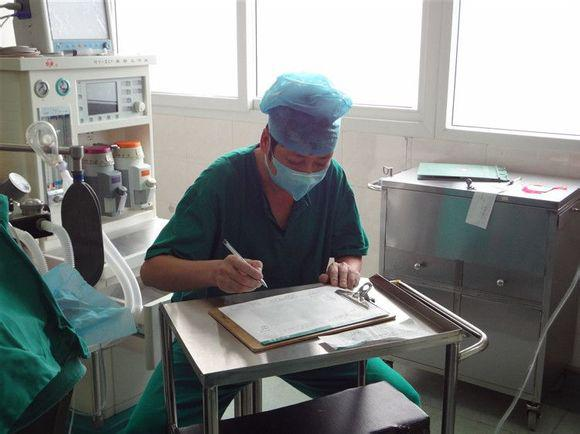OK: (270, 144, 334, 196)
